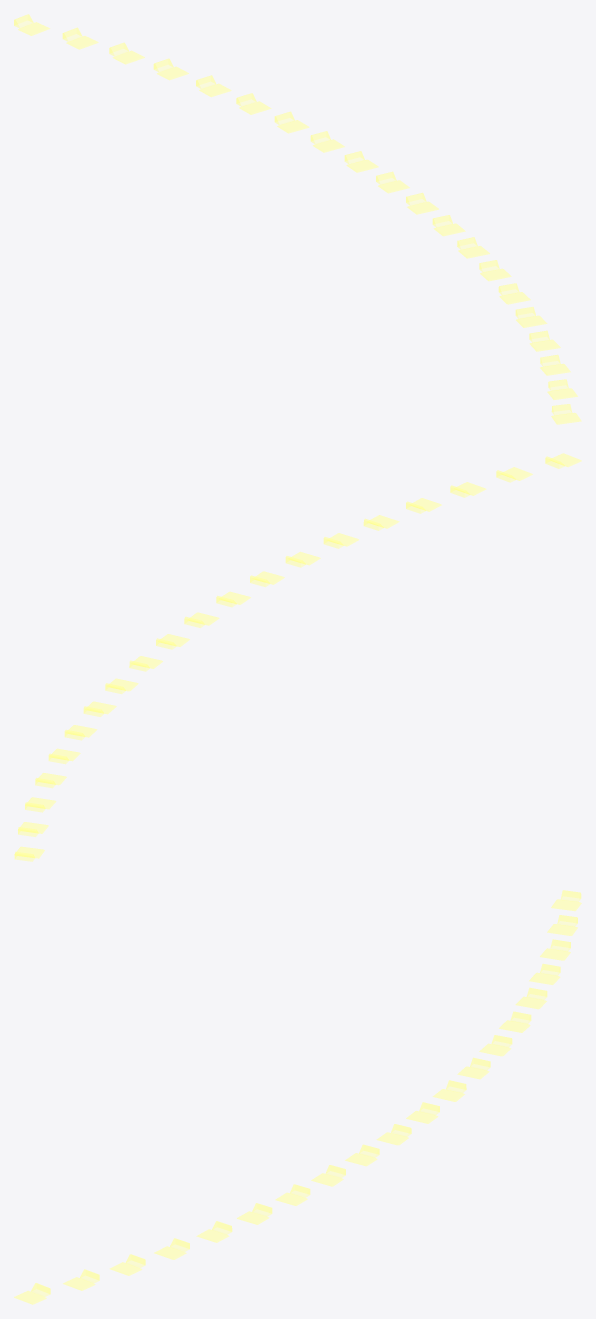
Rendered from Tee Off Panels.glb.
3 renders of one model, top to bottom at view 1: azimuth 30°, elevation 25°; view 2: azimuth 150°, elevation 25°; view 3: azimuth 330°, elevation 25°, orthographic.
Visible parts, largest first — view 1: debug_view; view 2: debug_view; view 3: debug_view.
Boxes of the visible parts, x1,y1,x2,y2 form: debug_view: [14, 14, 581, 424]; debug_view: [14, 453, 581, 861]; debug_view: [14, 890, 581, 1304].
Bounding box in the file's own units: 23.65 × 1.18 × 169.
